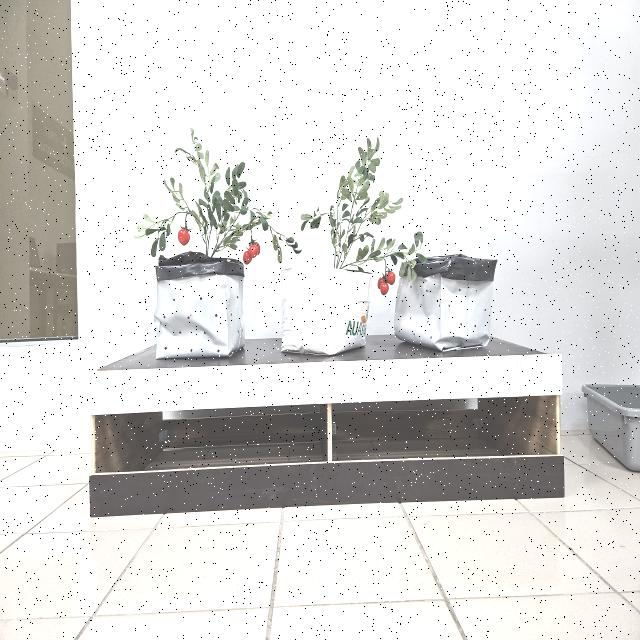Soilbag: (154, 254, 245, 366), (282, 268, 370, 359)
Tomato: (243, 236, 261, 265), (378, 272, 395, 296), (178, 229, 190, 246)
plant: (133, 128, 298, 265), (307, 137, 423, 281), (377, 262, 396, 296)
